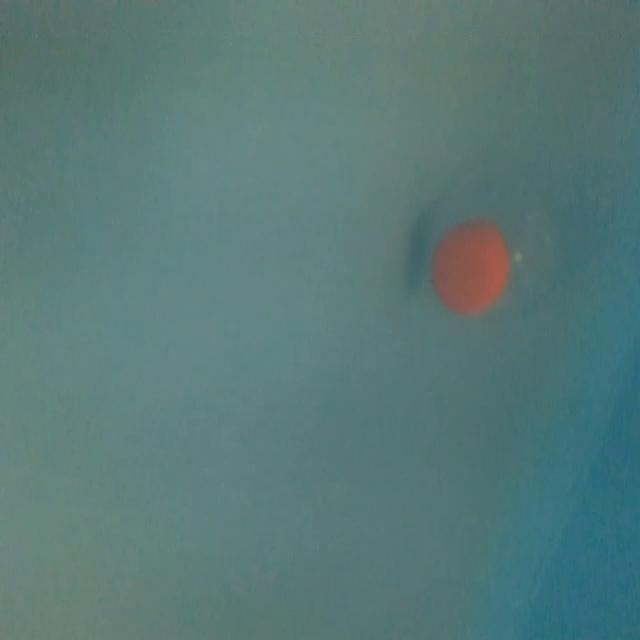plastic bottle: (420, 86, 640, 343)
